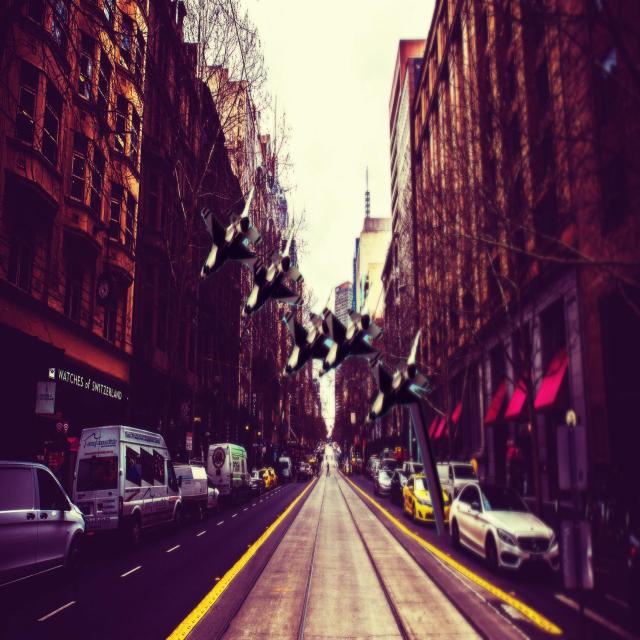airplane: (198, 186, 261, 280), (242, 230, 304, 322), (369, 327, 429, 421), (319, 303, 380, 376), (281, 308, 331, 378)
